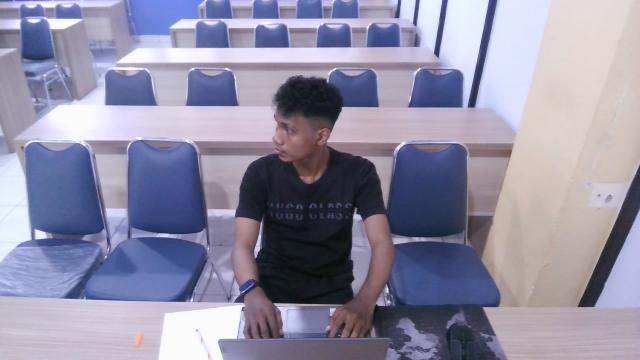Gaze_Aversion: (233, 68, 383, 217)
